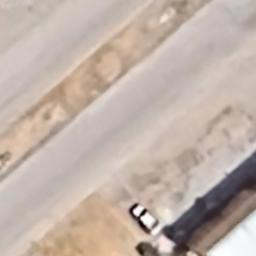sedan: (132, 200, 163, 236)
